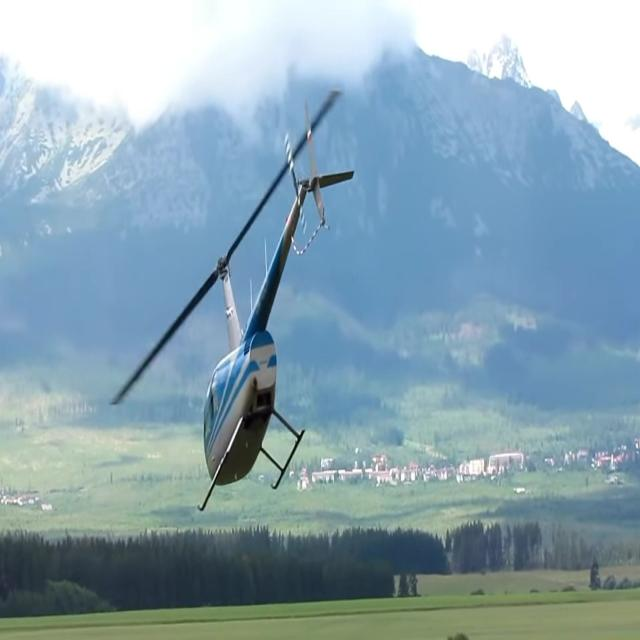CIV_HELO: (197, 101, 357, 514)
